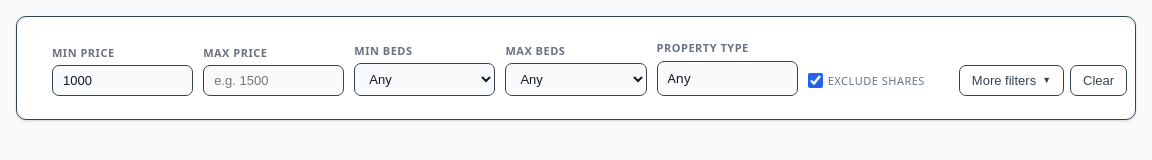
Test case: FilterToolbar — primary row › Clear button resets all filters
expect the number field with placeholder "e.g. 800" holds "1000": met, box [52,65,193,96]
Click the button "Clear": [1099, 80] box [1070,65,1127,96]
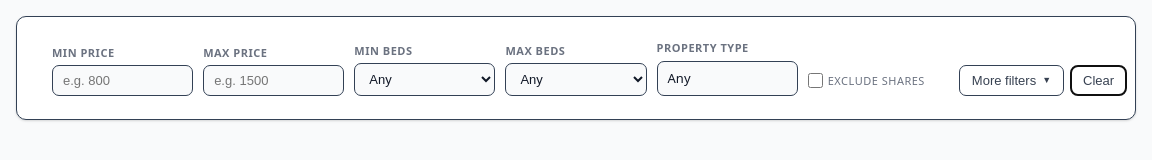
expect the number field with placeholder "e.g. 800" is empty: met, box [52,65,193,96]
expect the checkbox labelled "Exclude shares" is not checked: met, box [808,73,823,88]
